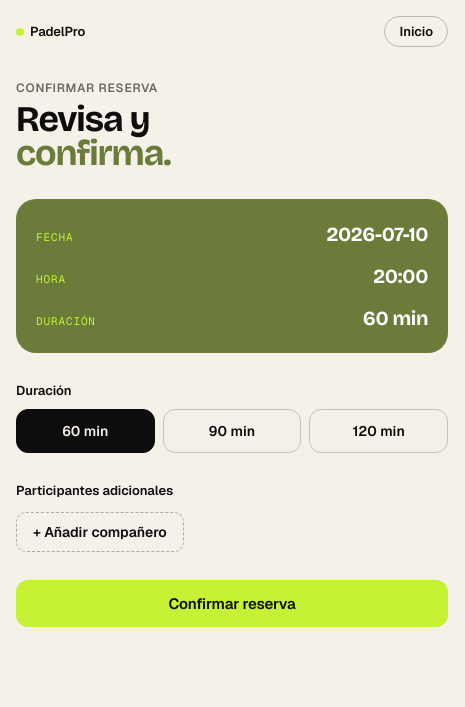
Test: ConfirmarReservaPage (Grupo 5) › 5.5b — 400 VALIDATION_ERROR (cuerpo real { error, message } sin errors[]) muestra aviso de datos
Click the button "Confirmar reserva" at (232, 604), box [16,580,448,627]
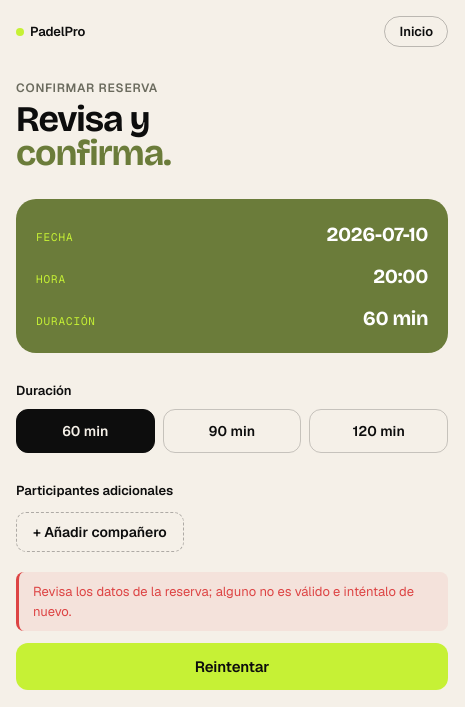
Expected: the message reads "Revisa los datos de la reserva; alguno no es válido e inténtalo de nuevo.", [33,583,414,620]
